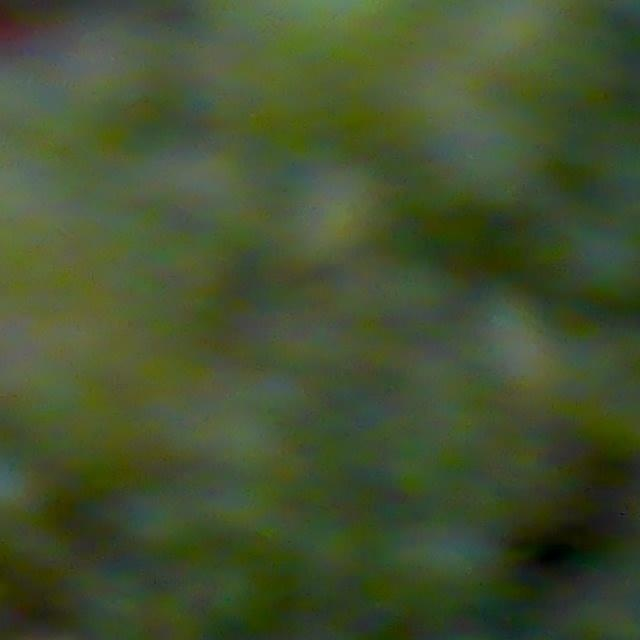SeaGrape: (462, 286, 558, 395), (564, 220, 640, 301)
